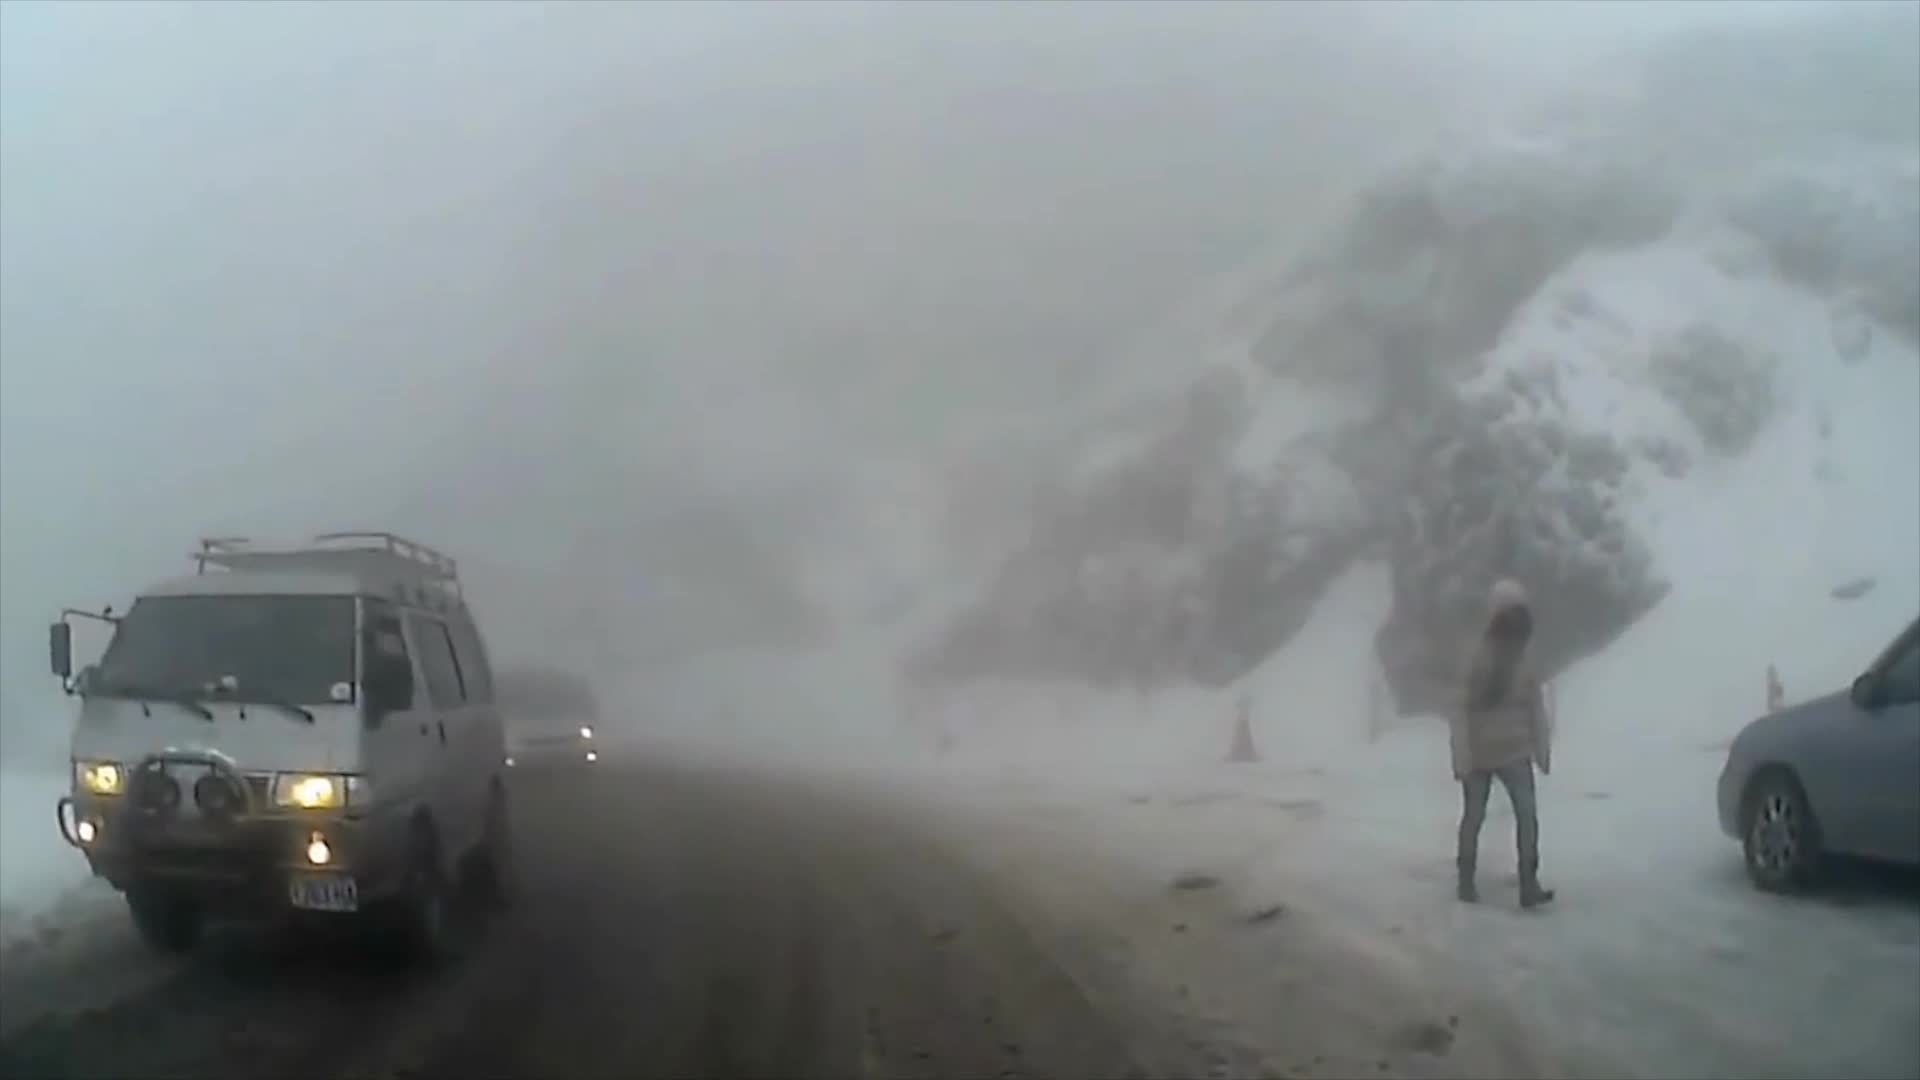pedestrian: (1443, 578, 1551, 912)
vehicle: (47, 529, 514, 977), (1715, 606, 1920, 897), (450, 669, 601, 786)
